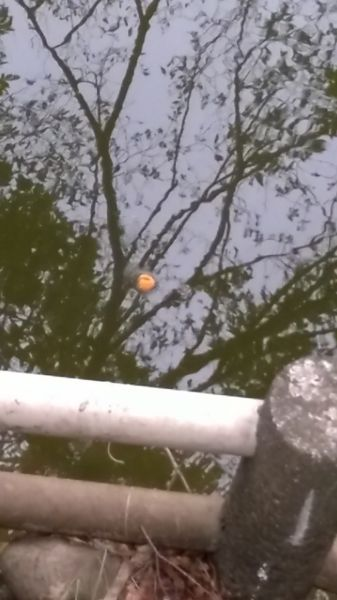eggs: (134, 269, 156, 294)
